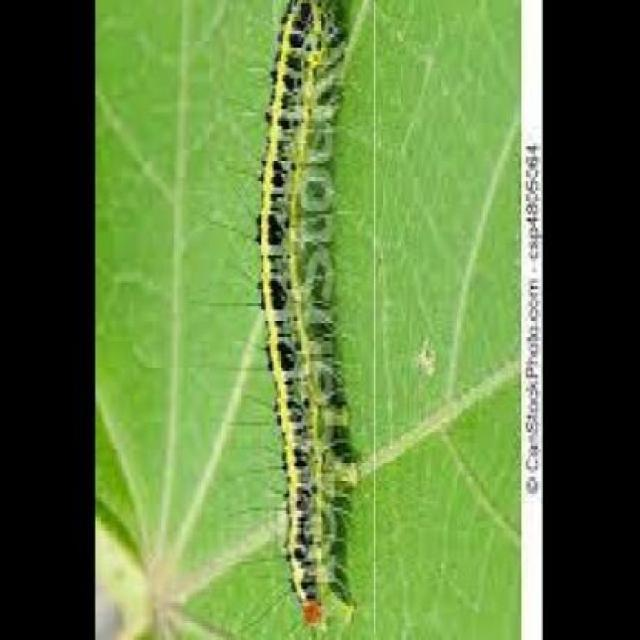Plaga: (240, 1, 377, 635)
